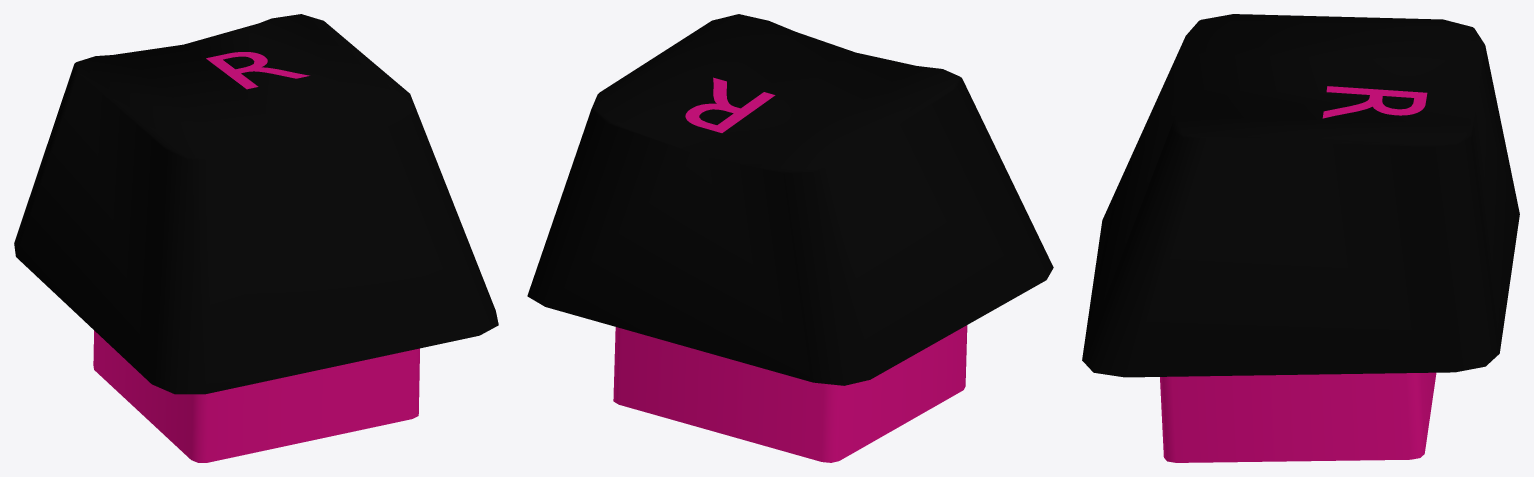
The model's file is r-z6wBPmkP.glb.
3 renders of one model, left to right at view 1: azimuth 30°, elevation 25°; view 2: azimuth 150°, elevation 25°; view 3: azimuth 270°, elevation 25°, orthographic. The views are drawn at different scales.
Parts seen in each view (by area): view 1: StudyShelf_1046; view 2: StudyShelf_1046; view 3: StudyShelf_1046.
Boxes of the visible parts, box(x1,y1,x2,y2) form: StudyShelf_1046: box(14, 14, 498, 462); StudyShelf_1046: box(527, 14, 1053, 462); StudyShelf_1046: box(1082, 14, 1519, 462).
Size of the model in its own units: 4.35 by 3.62 by 4.35.
